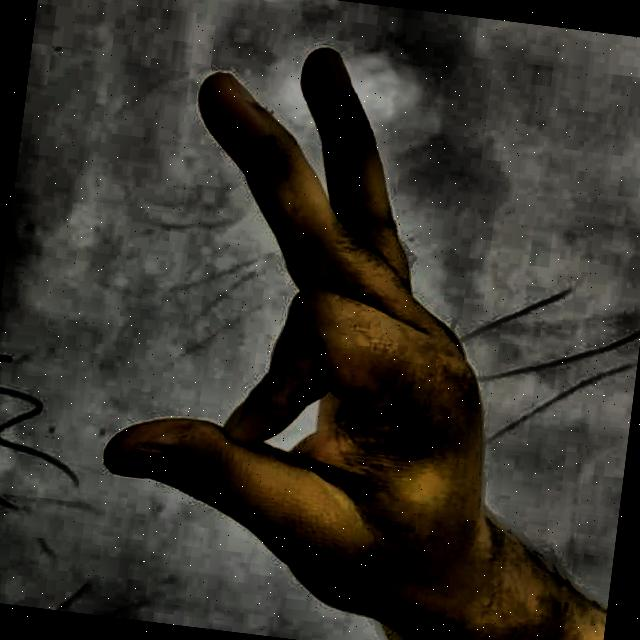Uo: (38, 7, 599, 640)
